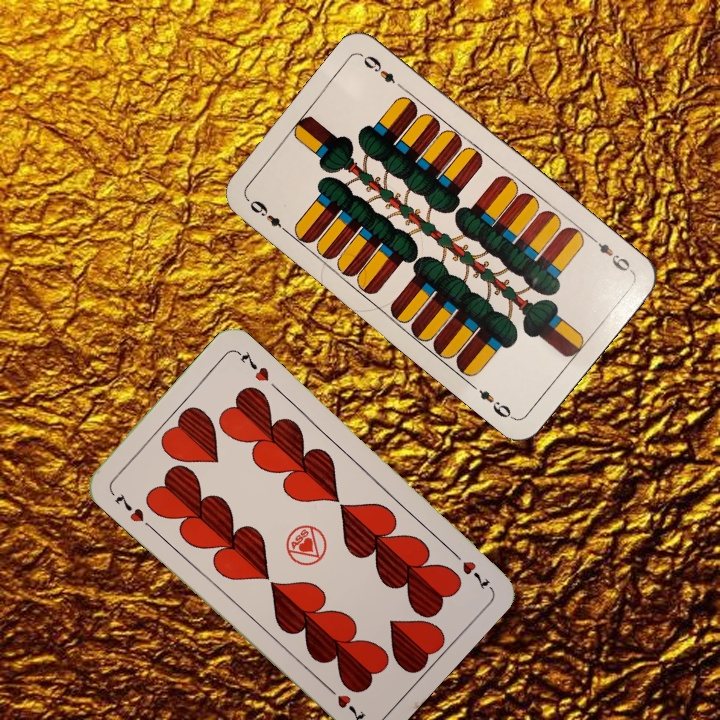E9: (586, 232, 635, 275), (245, 195, 292, 237)
H7: (446, 545, 494, 593), (110, 489, 147, 525)
